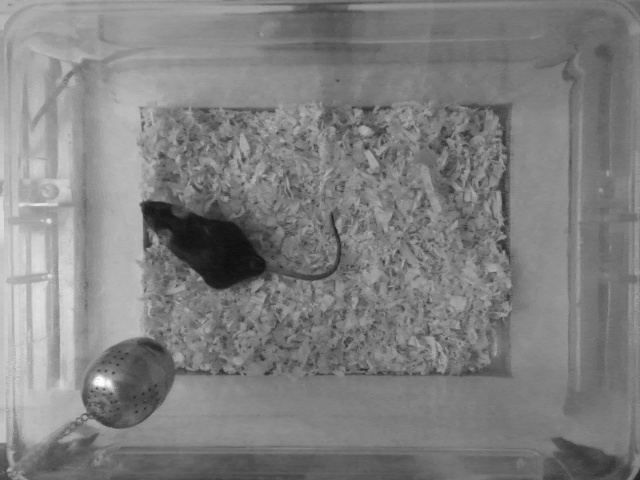mice: (135, 194, 343, 289)
